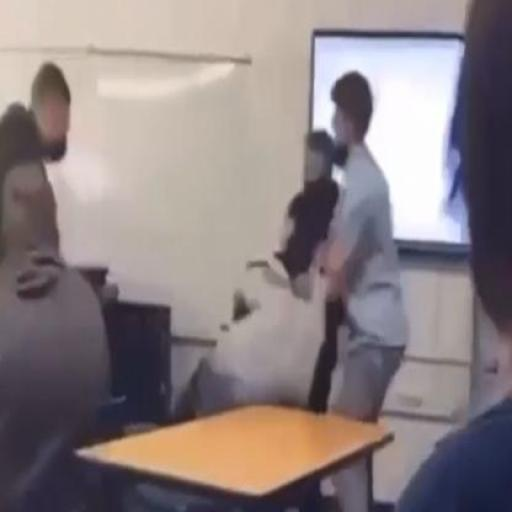Fighting: (175, 68, 415, 512)
